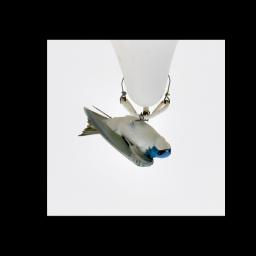Swallow: (77, 103, 171, 167)
